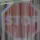Stop: (3, 7, 39, 36)
